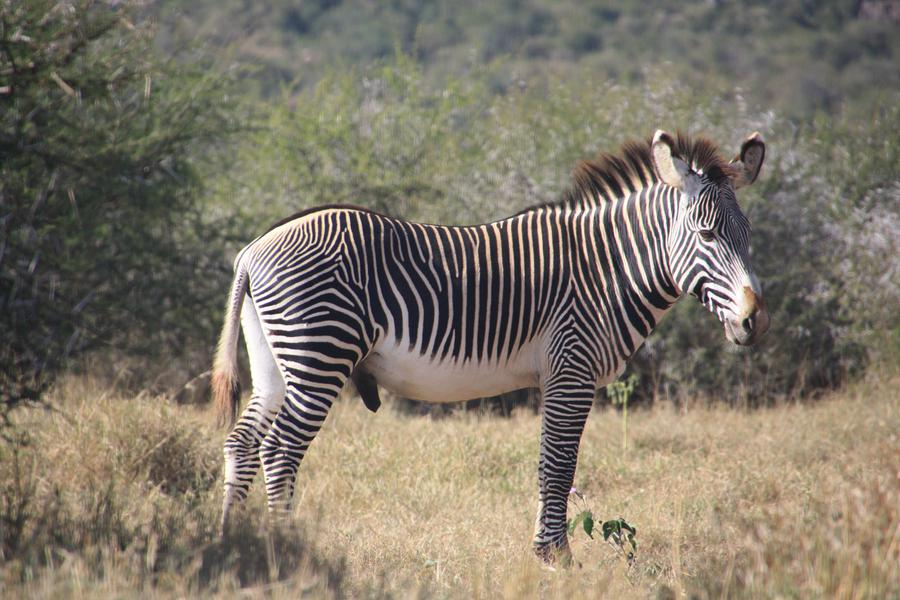zebra_grevys: (232, 201, 616, 383)
